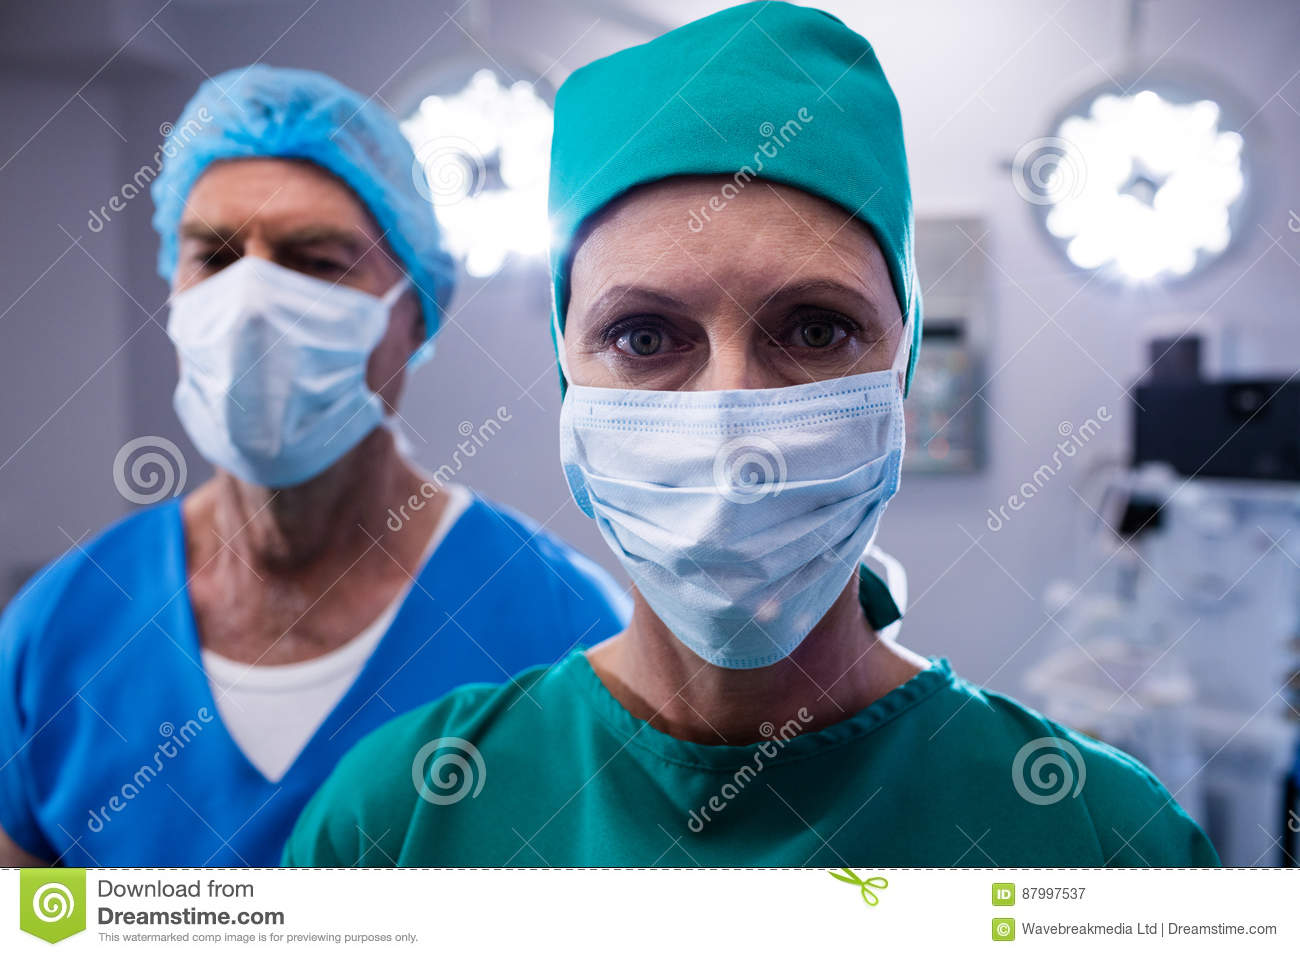mask: (558, 369, 897, 677), (161, 285, 391, 464)
